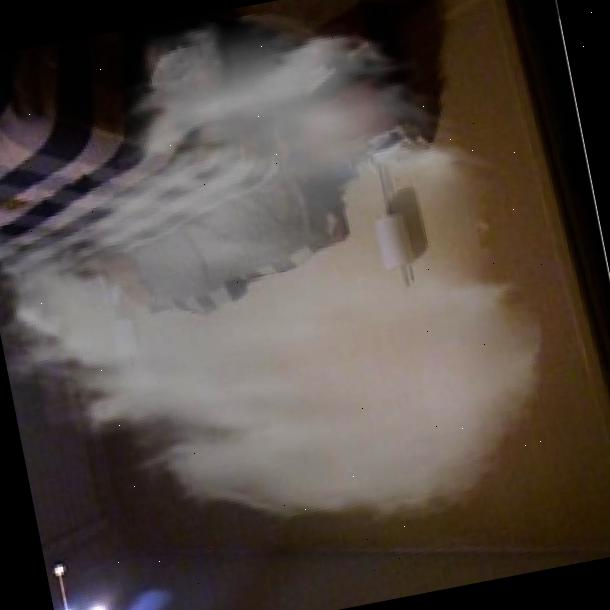smoke: (133, 97, 482, 504)
